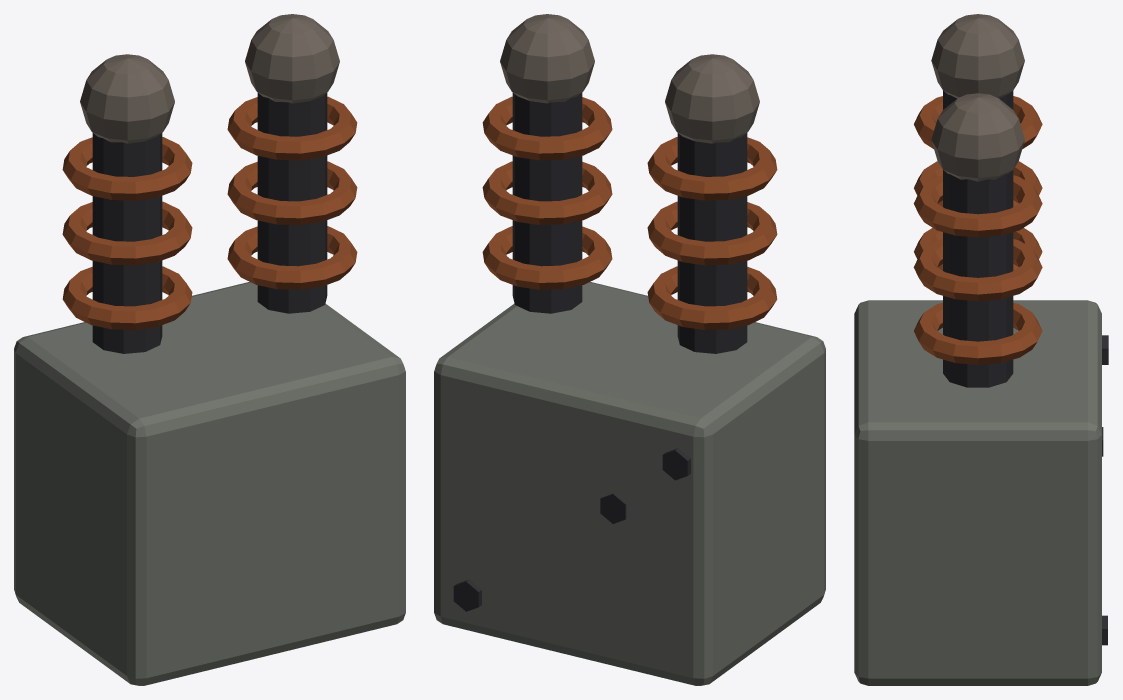
File: mo_arcrelay.glb
3 views of the same model, side by side, from view 1: azimuth 30°, elevation 25°; view 2: azimuth 150°, elevation 25°; view 3: azimuth 270°, elevation 25° (orthographic).
Visible parts, largest first — view 1: mo_arcrelay; view 2: mo_arcrelay; view 3: mo_arcrelay.
Part boxes in pixels (<box>): mo_arcrelay: <box>14,14,405,685</box>; mo_arcrelay: <box>434,14,825,685</box>; mo_arcrelay: <box>854,14,1108,685</box>.
Bounding box in the file's own units: 0.1161 × 0.2296 × 0.0933.
